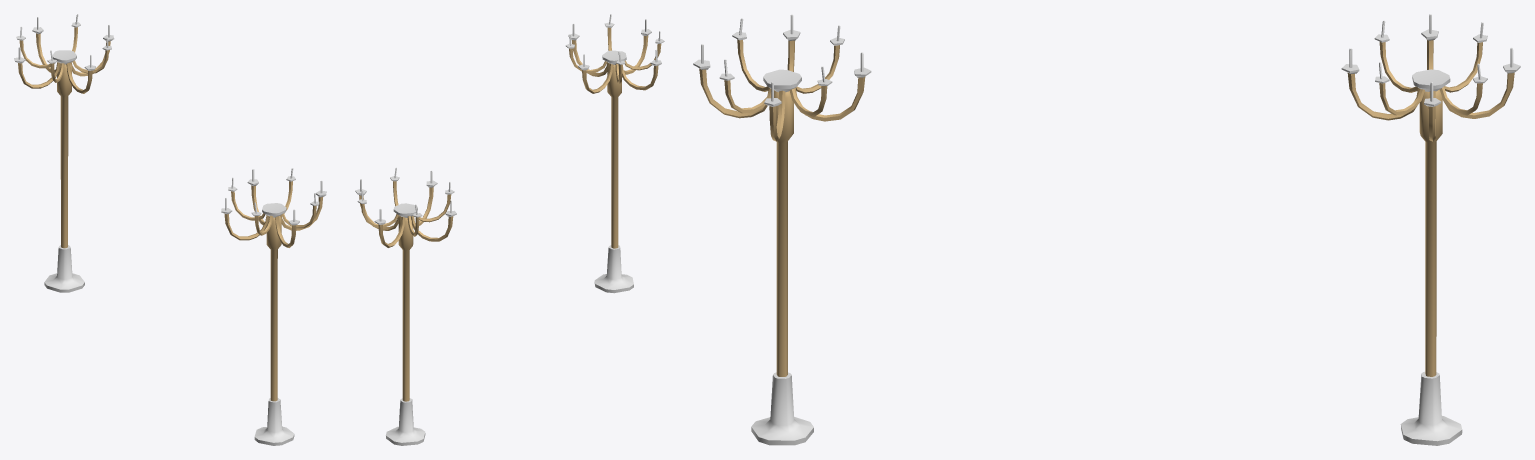
File: ACT2_StandingChandeliers_fin.fbx
The picture shows the model from 3 angles, left to right: view 1: azimuth 30°, elevation 25°; view 2: azimuth 150°, elevation 25°; view 3: azimuth 270°, elevation 25°; orthographic projection. The views are drawn at different scales.
Visible parts, largest first — view 1: StandingChandelier (×2); view 2: StandingChandelier (×2); view 3: StandingChandelier (×2).
Boxes of the visible parts, x1,y1,x2,y2 form: StandingChandelier (×2): [14, 14, 326, 445]; StandingChandelier (×2): [355, 14, 664, 445]; StandingChandelier (×2): [693, 14, 1520, 445].
Bounding box in the file's own units: 65.76 × 158 × 304.
